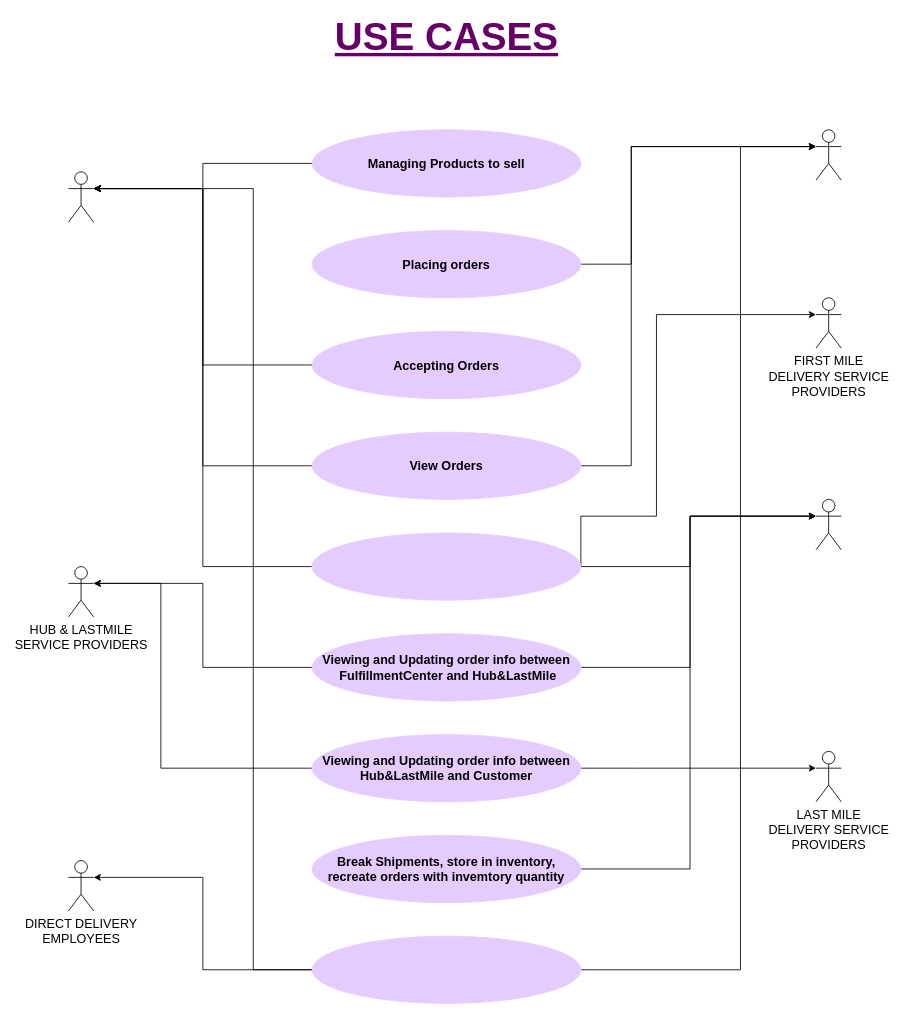
Some shapes in this 909 by 1018 pixel diagram are drawn without their labels. Each missing label, with the centre of its shape:
"Creating and Updating Shipments from FulfillmentCenter from Vendor" goes at pixel 446 566.
"CUSTOMER" goes at pixel 828 154.
"Delivering orders to customer directly" goes at pixel 446 969.
"FULFILLMENT CENTER EMPLOYEES" goes at pixel 828 524.
"VENDOR" goes at pixel 81 196.
